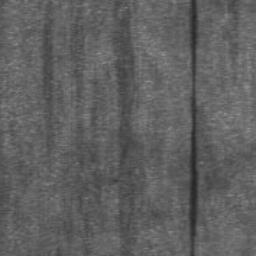Scratches: (188, 0, 199, 256)
